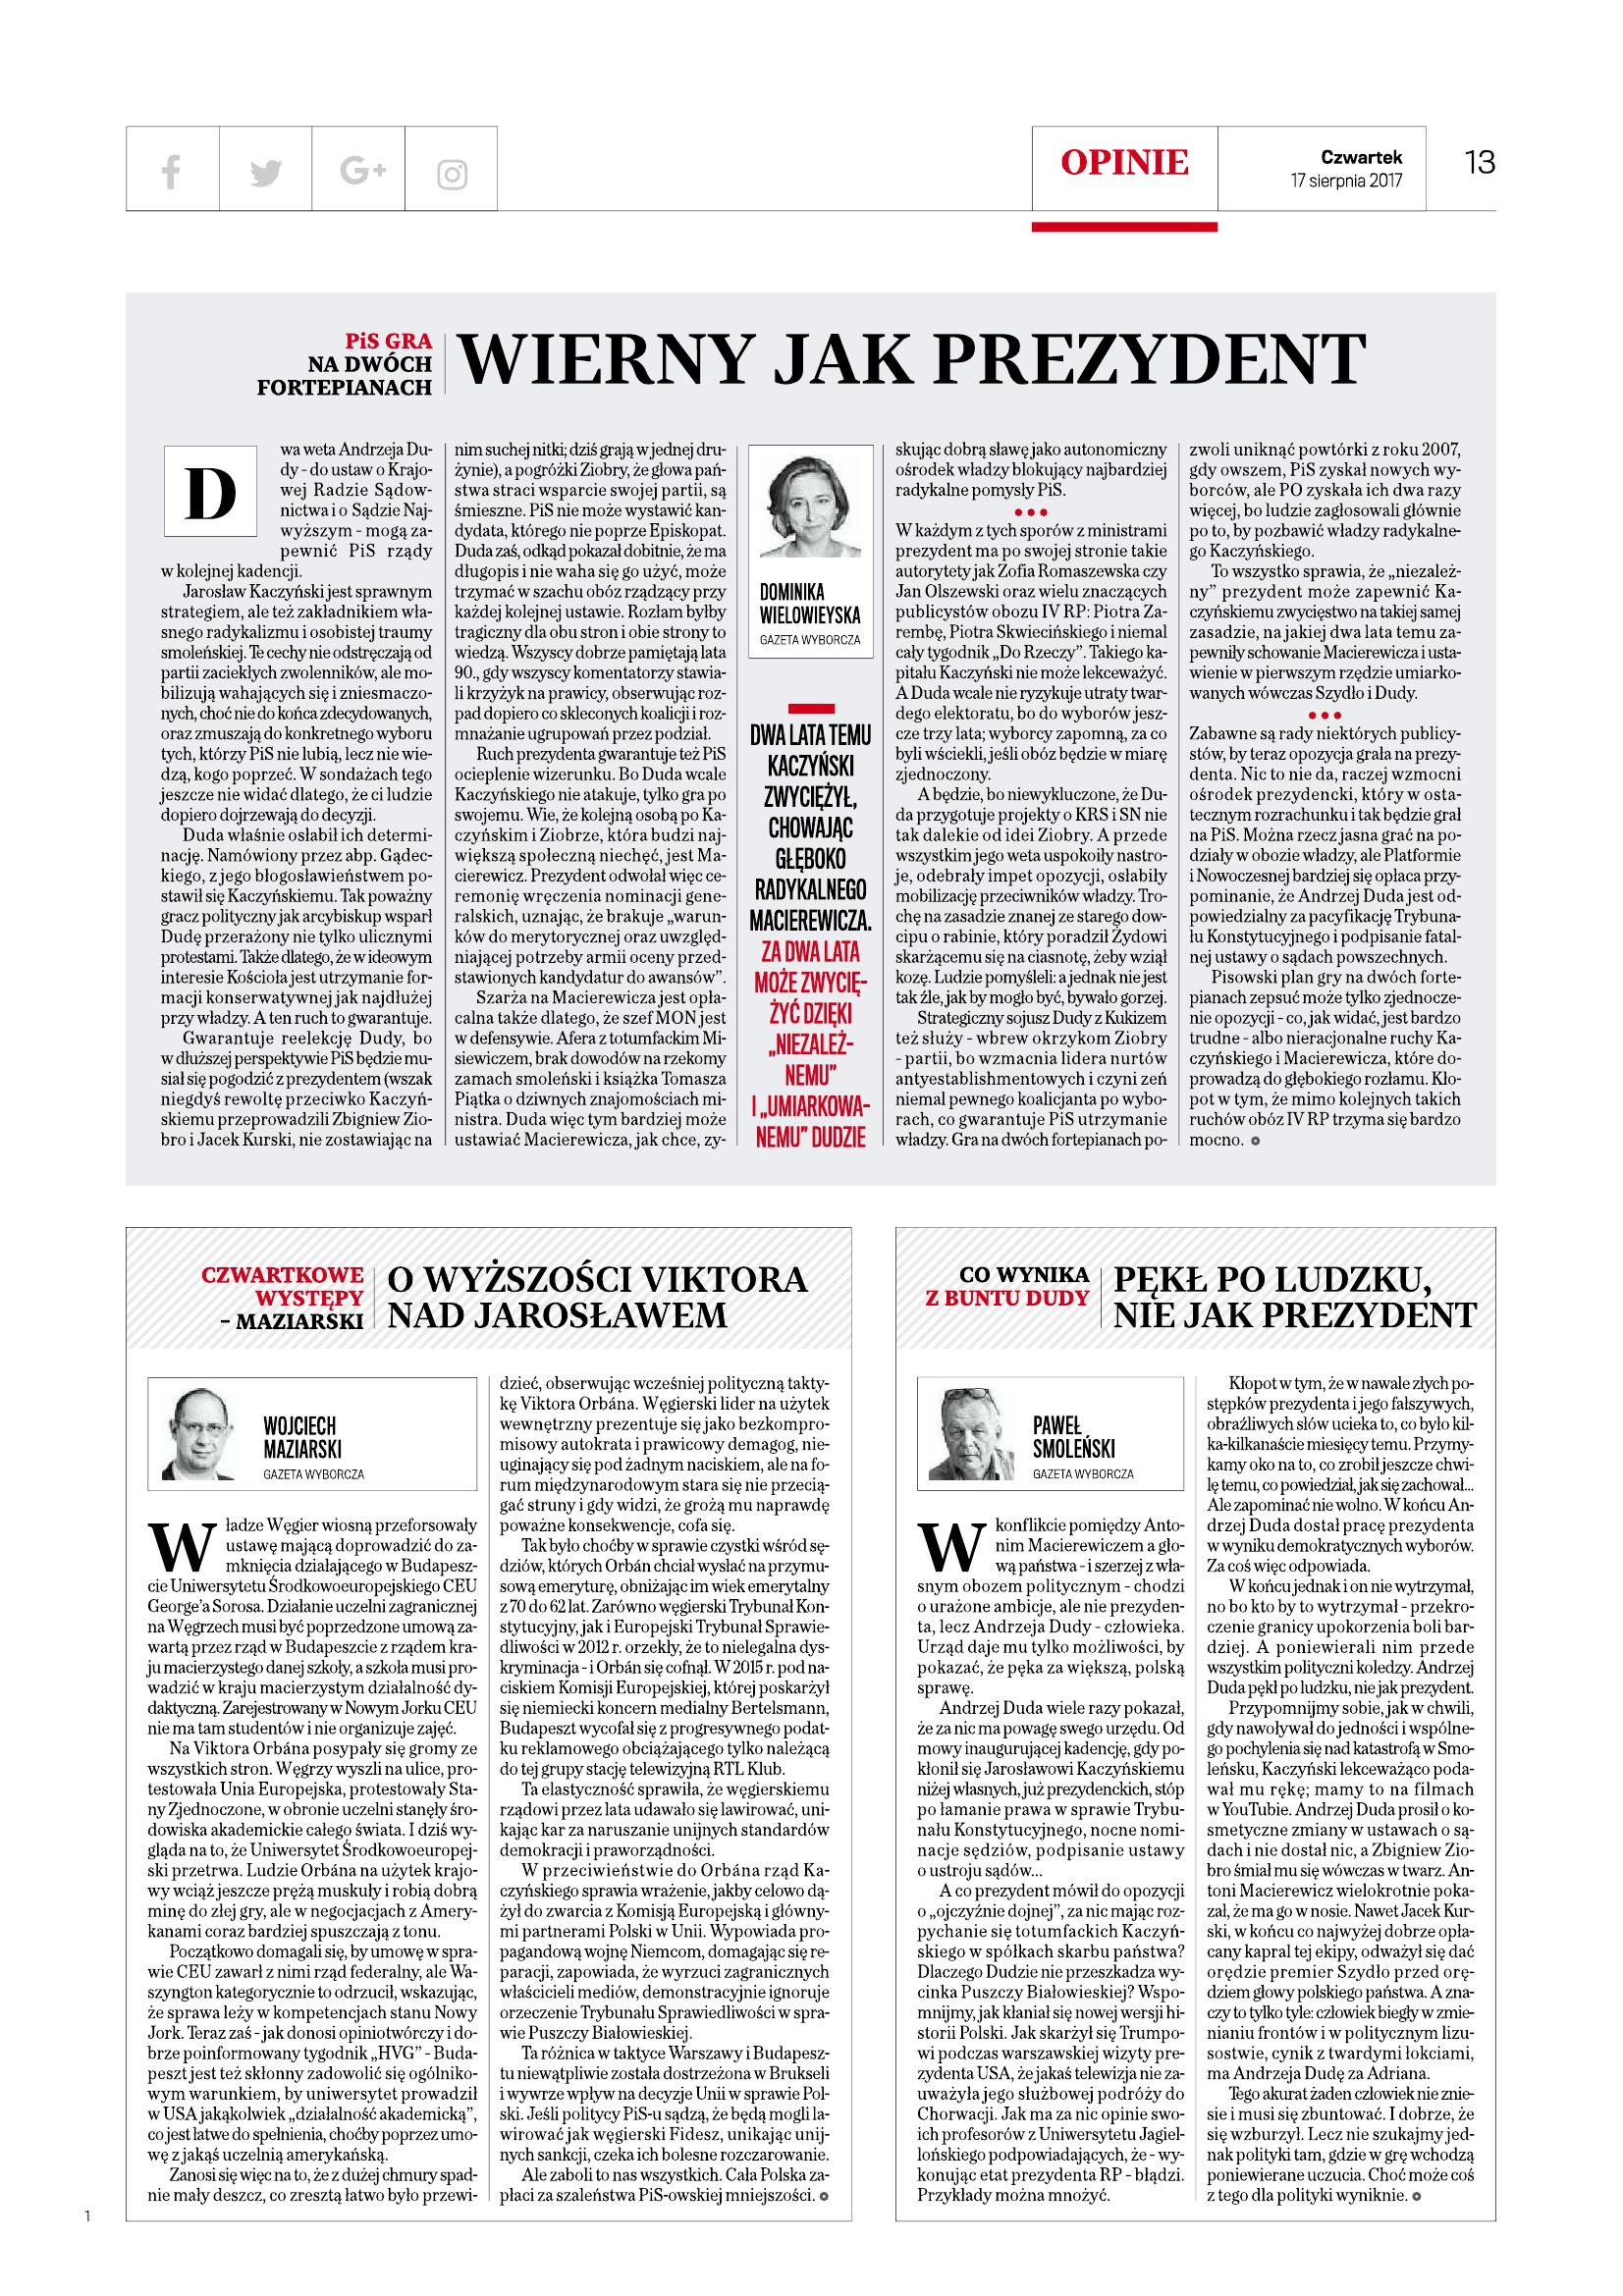article: (119, 288, 1495, 1188), (125, 1225, 852, 2221), (889, 1227, 1495, 2221)
